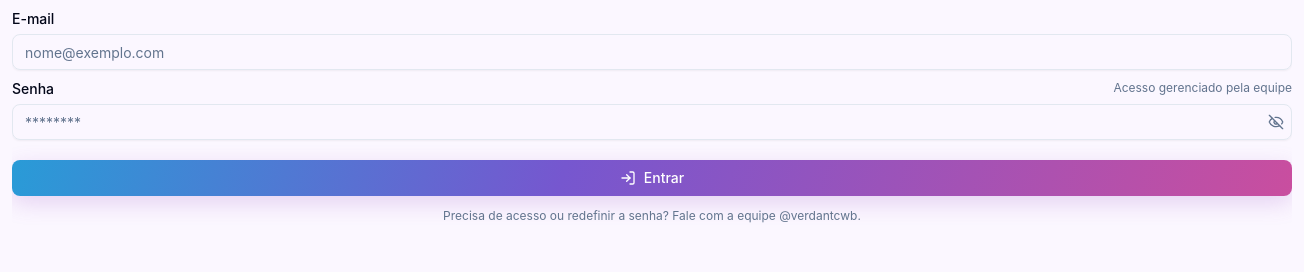
Scenario: UserAuthForm › shows the server rejection without saving a client-side token
This screenshot has width=1304, height=272.
Type "equipe@verdant.test" into the field labelled "E-mail" at (652, 52), box [12,34,1292,70]
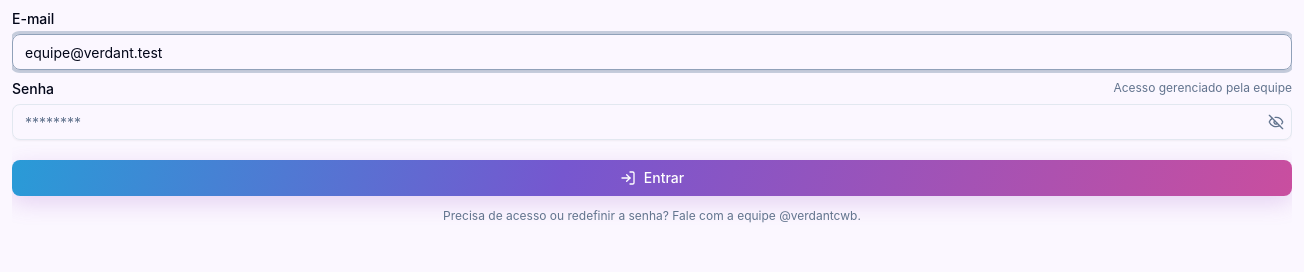
Type "UmaSenhaForte2026!" into the password field labelled "Senha" at (652, 122), box [12,104,1292,140]
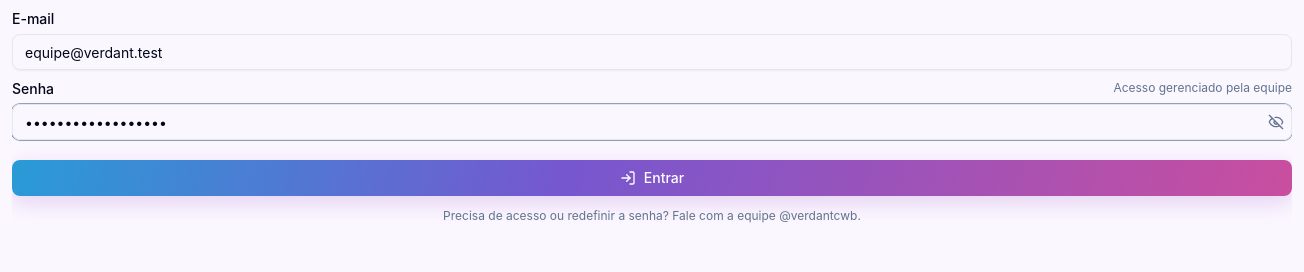
Click the button "Entrar" at (652, 178), box [12,160,1292,196]
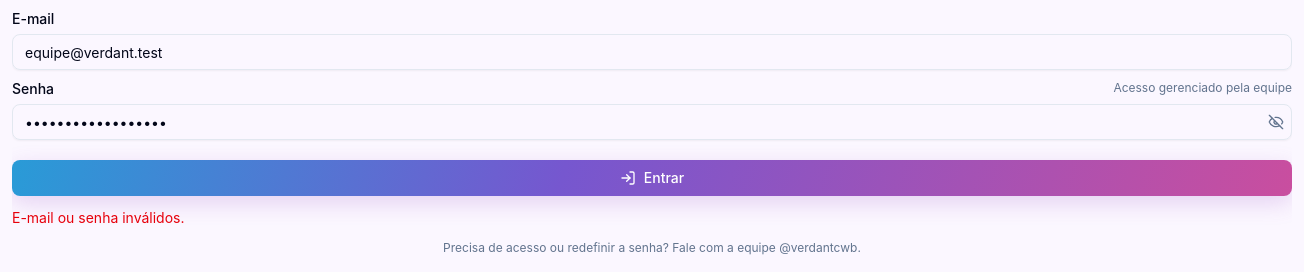
expect the message reads "E-mail ou senha inválidos.": met, box [12,209,184,226]
